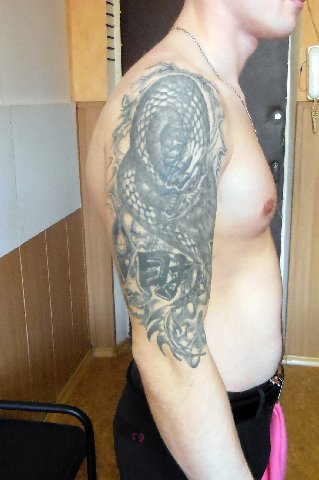tatu7_zmeya: (113, 61, 220, 375)
